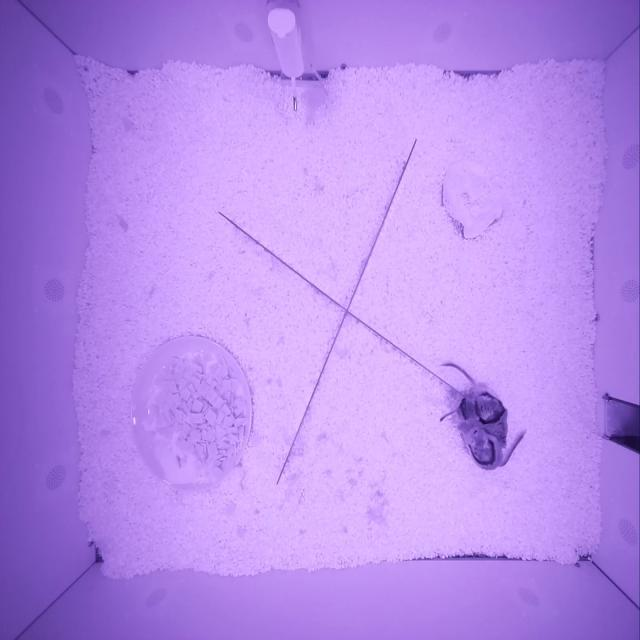adult_back: (468, 382, 508, 449)
adult_front: (466, 426, 503, 470)
pup_h_stripe: (457, 395, 499, 420)
